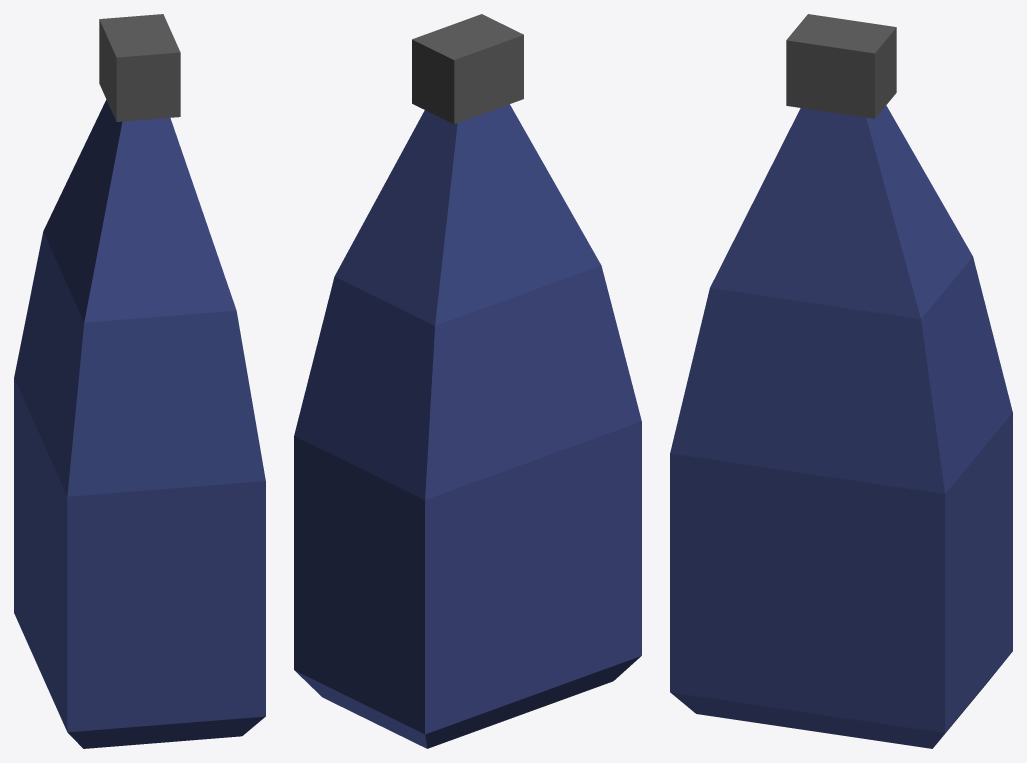
File: Bottle_24.fbx
The picture shows the model from 3 angles, left to right: view 1: azimuth 30°, elevation 25°; view 2: azimuth 150°, elevation 25°; view 3: azimuth 270°, elevation 25°; orthographic projection.
Parts seen in each view (by area): view 1: Bottle_24; view 2: Bottle_24; view 3: Bottle_24.
Boxes of the visible parts, x1,y1,x2,y2 form: Bottle_24: (14,14,265,748); Bottle_24: (294,14,641,748); Bottle_24: (670,14,1012,748).
Bounding box in the file's own units: 14.72 × 17.41 × 37.27.
